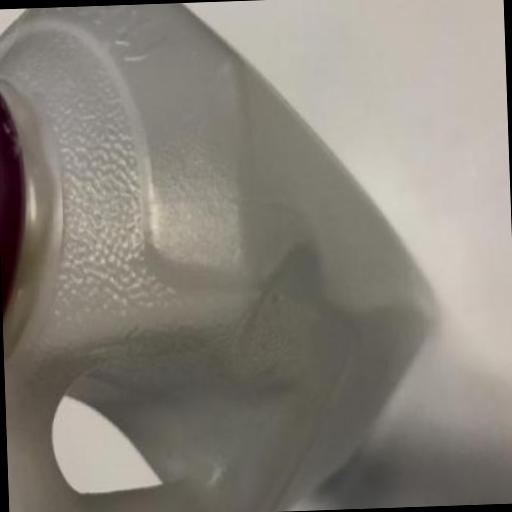plastic: (0, 0, 444, 512), (0, 80, 50, 332)
